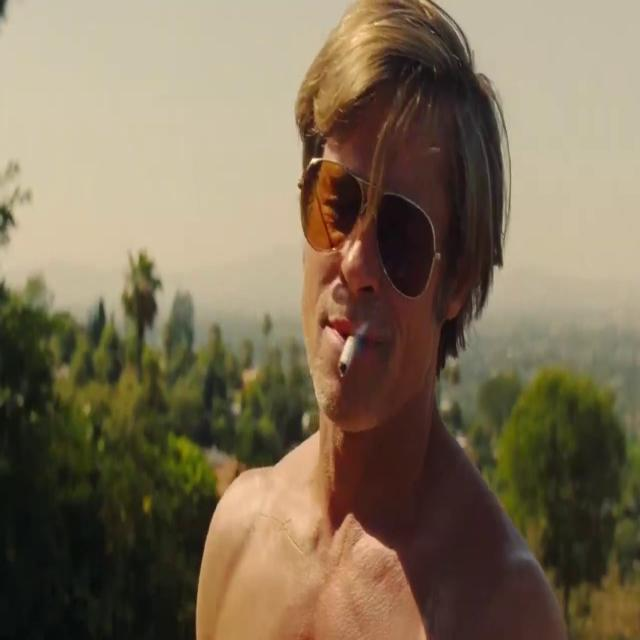Smooking: (334, 325, 358, 382)
